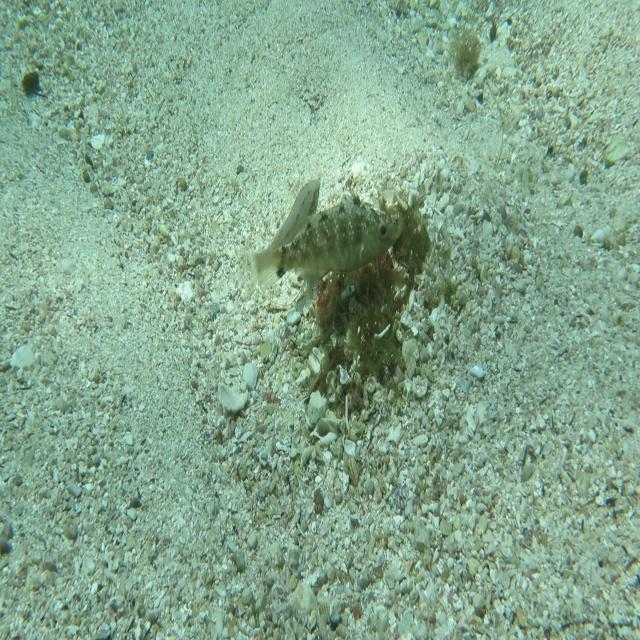INSF: (236, 187, 404, 302)
female: (265, 178, 322, 252)
nest: (301, 168, 454, 424)
